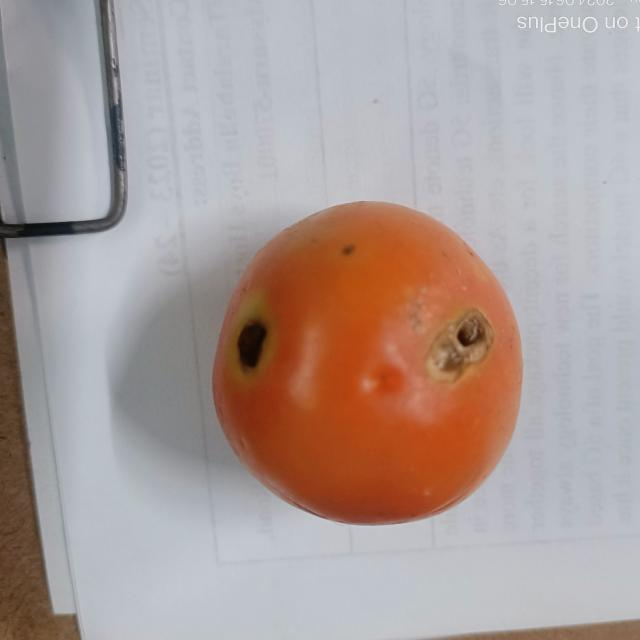fruitworm_bore: (428, 310, 508, 382), (228, 309, 274, 392)
